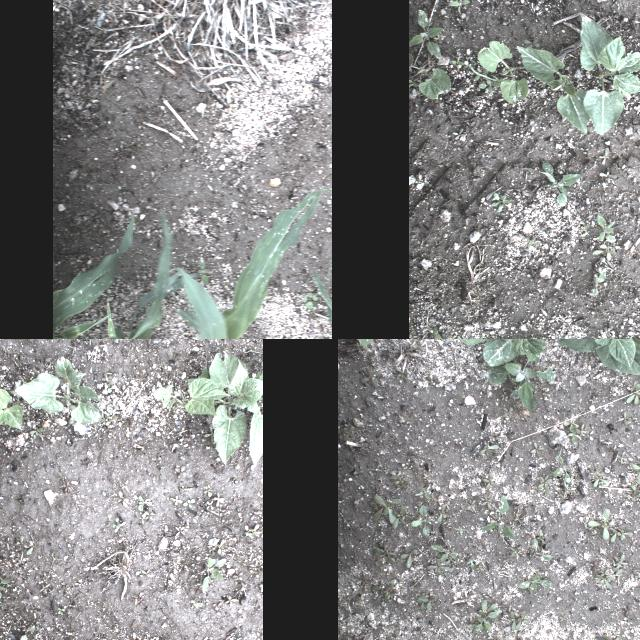crop: (113, 189, 332, 339), (54, 211, 170, 339), (152, 350, 262, 470), (106, 210, 198, 339), (576, 11, 640, 135), (516, 46, 594, 136), (16, 355, 102, 425), (477, 40, 527, 104), (557, 339, 640, 376), (483, 339, 559, 366), (408, 52, 449, 100), (0, 382, 24, 439)
weed: (482, 346, 556, 412), (538, 160, 580, 206), (409, 10, 443, 60), (482, 496, 516, 540), (202, 554, 228, 596), (587, 508, 615, 540), (372, 494, 401, 524), (13, 532, 43, 558), (552, 455, 576, 485), (518, 574, 552, 594), (202, 486, 228, 512), (411, 506, 432, 536), (475, 611, 501, 635), (597, 212, 615, 242), (588, 266, 606, 296), (171, 494, 201, 512), (103, 400, 121, 430), (530, 538, 552, 562), (418, 325, 454, 339), (478, 598, 498, 622), (431, 545, 457, 563), (382, 578, 400, 604), (103, 371, 123, 393), (241, 516, 259, 540), (490, 192, 510, 212), (108, 516, 128, 536), (134, 492, 154, 512), (360, 368, 380, 388), (372, 548, 394, 566), (198, 254, 210, 286), (427, 557, 451, 573), (592, 243, 614, 260), (478, 441, 500, 457), (417, 596, 441, 610), (0, 576, 11, 606), (400, 550, 418, 568), (302, 292, 318, 312), (172, 462, 188, 482), (478, 80, 504, 92), (626, 384, 640, 406), (481, 472, 497, 490), (539, 474, 553, 494), (614, 552, 628, 572), (568, 422, 578, 448), (592, 472, 608, 488), (380, 542, 396, 558), (516, 612, 530, 630), (595, 574, 613, 588), (5, 631, 32, 640), (564, 414, 580, 428), (394, 366, 408, 382), (414, 486, 430, 500), (398, 506, 414, 520), (608, 568, 624, 582), (436, 505, 448, 523), (392, 511, 404, 529), (631, 460, 640, 482), (30, 426, 44, 440), (617, 412, 631, 426), (530, 442, 544, 456), (466, 616, 480, 630), (53, 606, 69, 618), (610, 528, 622, 544), (415, 593, 425, 611), (394, 478, 408, 490), (342, 426, 354, 440), (483, 493, 493, 509), (618, 530, 634, 540), (370, 584, 386, 594), (514, 610, 530, 620), (622, 602, 632, 618), (630, 381, 638, 399), (508, 546, 520, 558), (508, 612, 516, 630), (575, 424, 589, 434), (477, 540, 487, 554), (466, 556, 476, 570), (616, 452, 628, 463), (502, 406, 512, 419), (537, 528, 545, 544), (448, 0, 469, 6), (603, 633, 621, 640), (428, 376, 440, 386), (391, 471, 402, 481), (474, 562, 484, 572), (589, 561, 599, 571), (631, 484, 640, 495), (467, 500, 475, 512), (455, 526, 467, 534), (369, 502, 378, 512), (589, 396, 599, 404), (514, 514, 522, 524), (601, 570, 611, 578), (558, 489, 566, 498), (422, 473, 430, 482), (387, 592, 395, 600), (445, 559, 455, 565), (598, 482, 604, 490), (560, 614, 566, 622), (436, 636, 448, 640), (446, 501, 450, 512), (530, 544, 534, 554), (589, 526, 599, 530), (494, 436, 506, 439), (596, 516, 602, 522), (512, 380, 526, 382), (632, 570, 638, 574)
